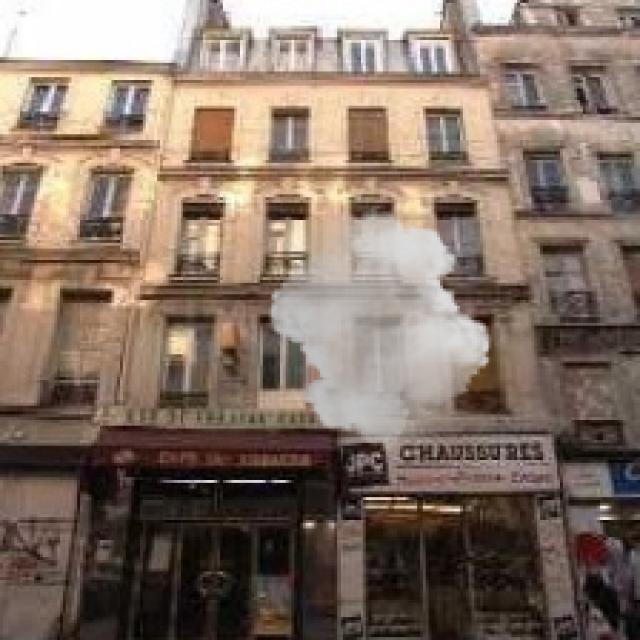smoke: (260, 206, 500, 451)
